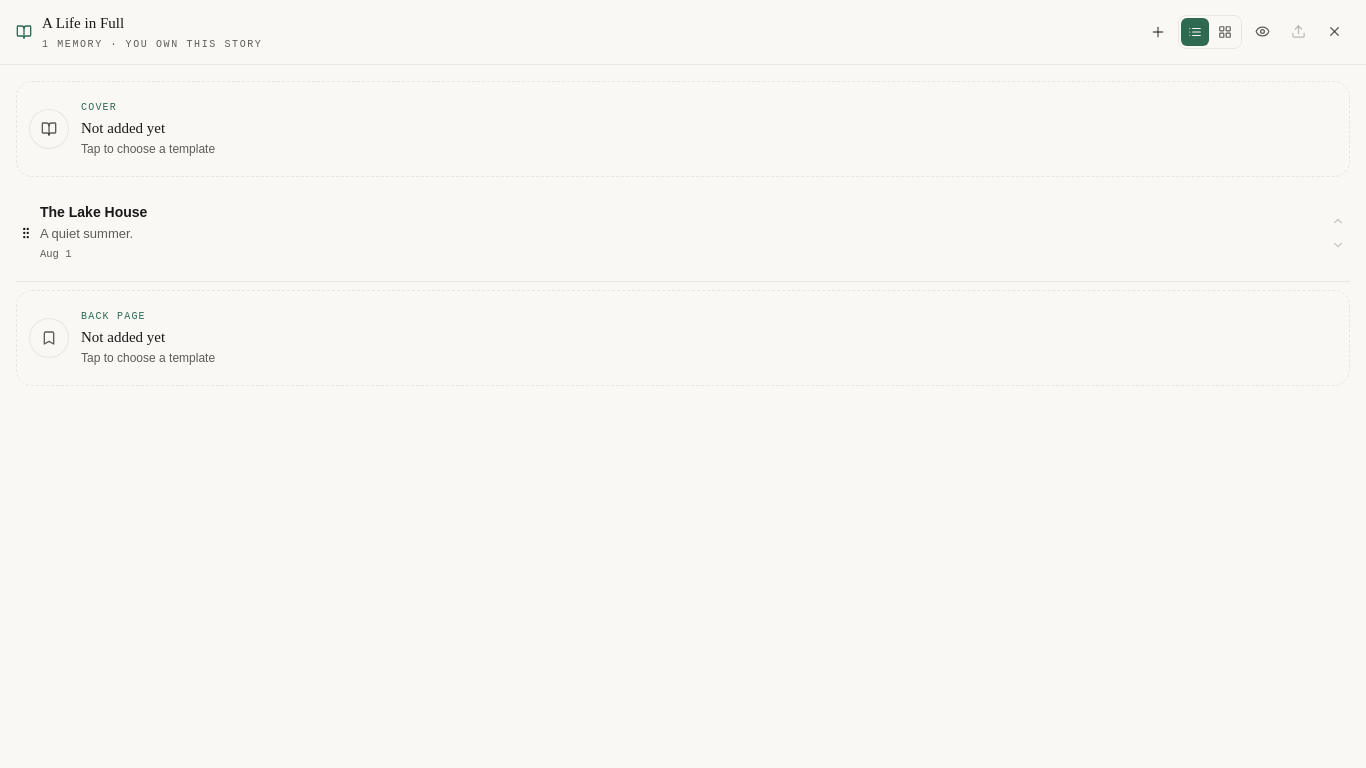
StoryView — Preview entry point (Phase 5) › clicking "Preview this story" opens the reader, showing the story name in its header
The width and height of the screenshot is (1366, 768).
Expected: the text "The Lake House" is shown, [40,204,147,220]
Click the button named "Preview this story".
click(1262, 32)  # box [1246,16,1278,48]
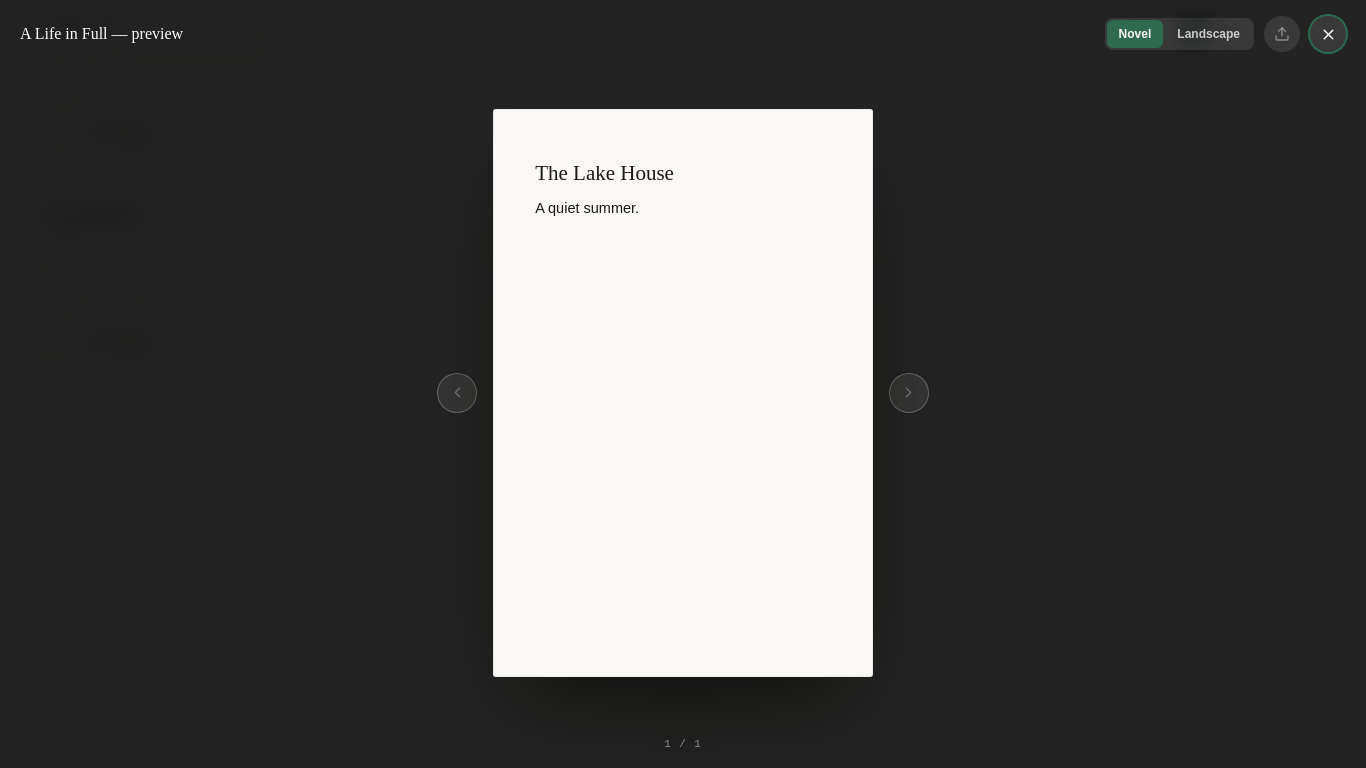
Result: the dialog named "Preview A Life in Full" is shown
Result: the text "A quiet summer." is shown at [535,200,639,216]
